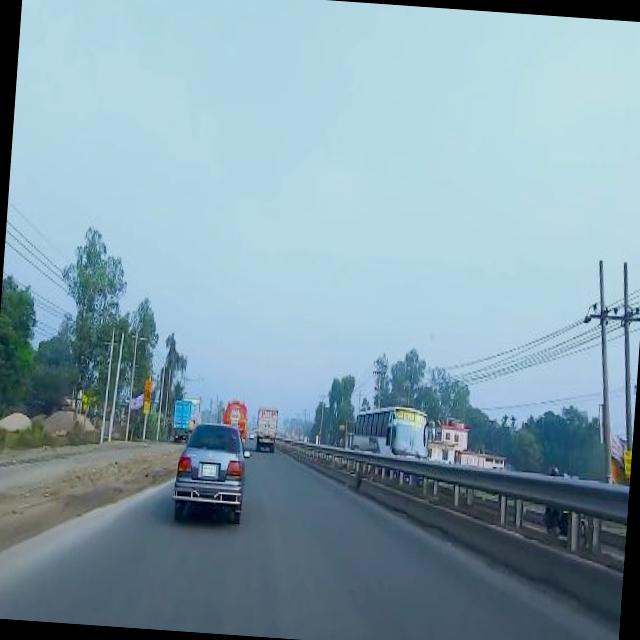bus: (349, 402, 435, 456)
car: (170, 416, 251, 520)
truck: (255, 402, 277, 451), (170, 393, 192, 440), (222, 395, 248, 429)
